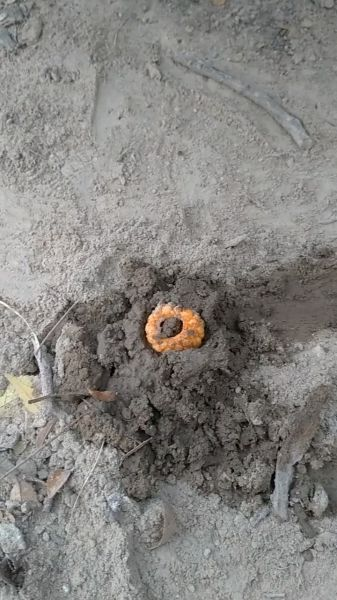eggs: (140, 298, 219, 364)
